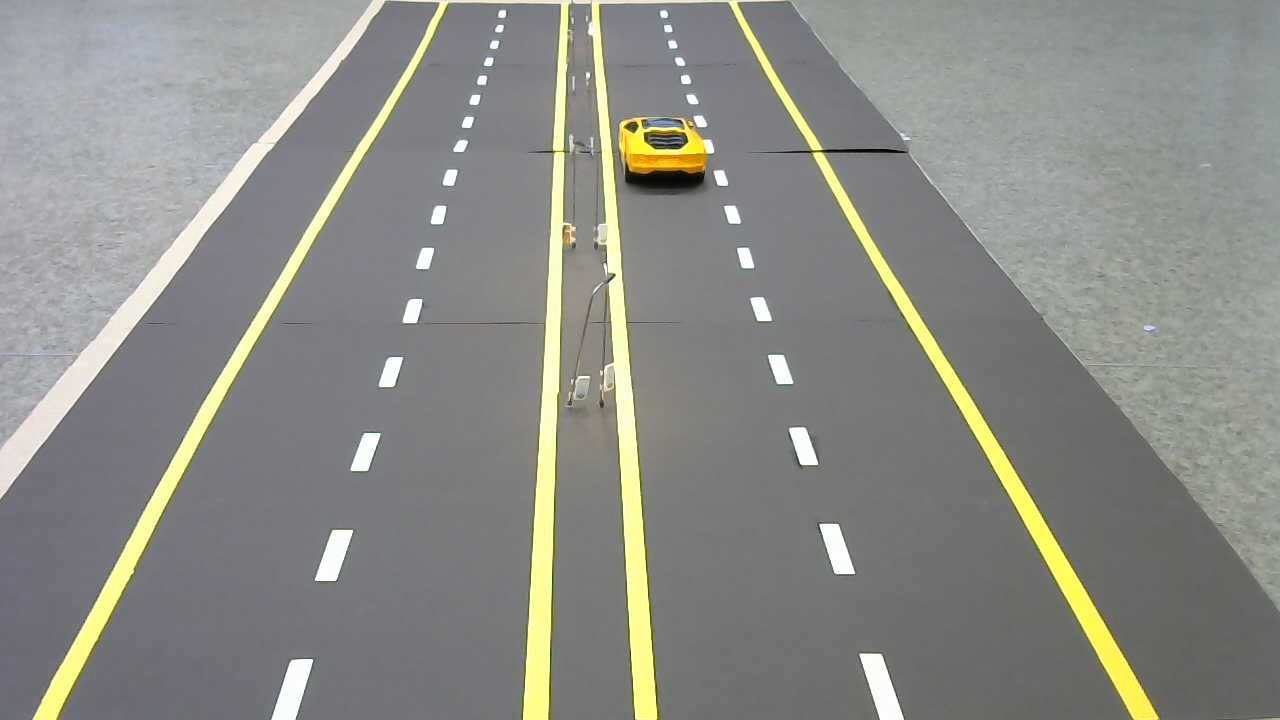back_car: (613, 112, 715, 184)
